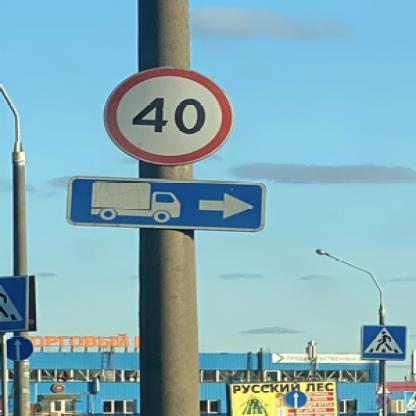crosswalk: (359, 323, 404, 360)
speedlimit: (101, 66, 232, 166)
